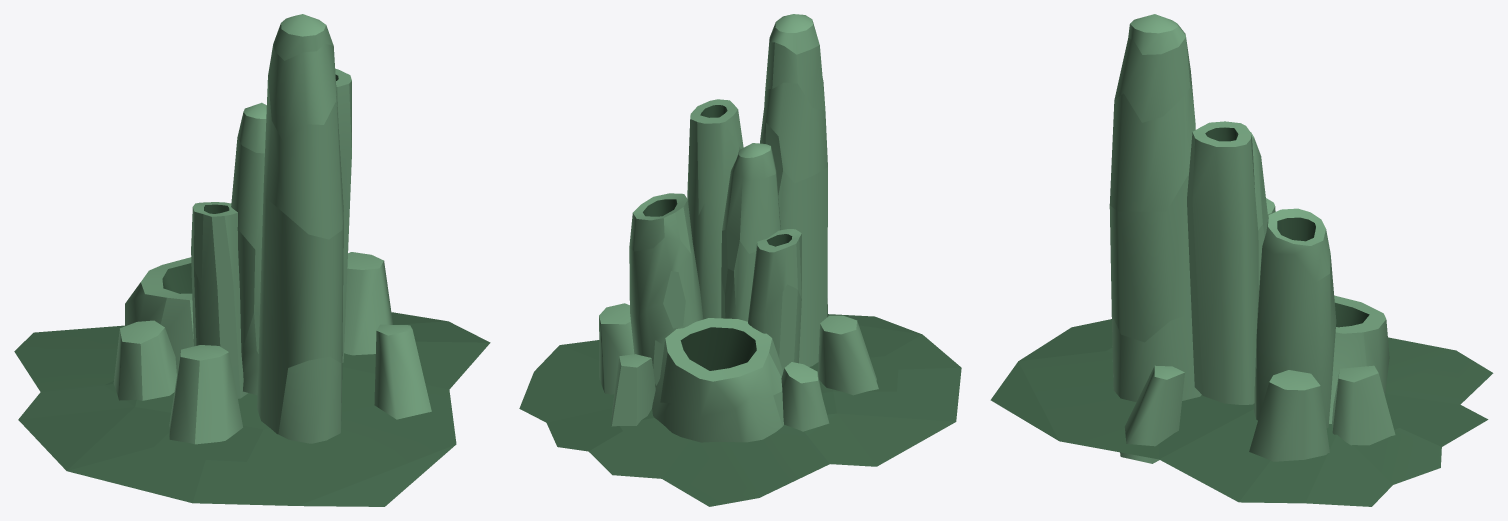
File: coral_tube_set_E_mini.fbx
3 renders of one model, left to right at view 1: azimuth 30°, elevation 25°; view 2: azimuth 150°, elevation 25°; view 3: azimuth 270°, elevation 25°, orthographic. The views are drawn at different scales.
Visible parts, largest first — view 1: coral_tube_set_E_mini_base, coral_tube_set_E_mini_A, coral_tube_set_E_mini_D, coral_tube_set_E_mini_B, coral_tube_set_E_mini_small_D, coral_tube_set_E_mini_small_E, coral_tube_set_E_mini_F, coral_tube_set_E_mini_small_F, coral_tube_set_E_mini_small_B, coral_tube_set_E_mini_C; view 2: coral_tube_set_E_mini_base, coral_tube_set_E_mini_A, coral_tube_set_E_mini_F, coral_tube_set_E_mini_E, coral_tube_set_E_mini_C, coral_tube_set_E_mini_B, coral_tube_set_E_mini_D, coral_tube_set_E_mini_small_D, coral_tube_set_E_mini_small_C, coral_tube_set_E_mini_small_E, coral_tube_set_E_mini_small_B; view 3: coral_tube_set_E_mini_base, coral_tube_set_E_mini_A, coral_tube_set_E_mini_C, coral_tube_set_E_mini_E, coral_tube_set_E_mini_small_B, coral_tube_set_E_mini_small_C, coral_tube_set_E_mini_F, coral_tube_set_E_mini_small_F, coral_tube_set_E_mini_B.
Boxes of the visible parts, <box> form: coral_tube_set_E_mini_base: <box>14,312,490,506</box>; coral_tube_set_E_mini_A: <box>257,14,343,443</box>; coral_tube_set_E_mini_D: <box>191,202,247,398</box>; coral_tube_set_E_mini_B: <box>231,102,266,394</box>; coral_tube_set_E_mini_small_D: <box>169,345,242,444</box>; coral_tube_set_E_mini_small_E: <box>113,320,176,400</box>; coral_tube_set_E_mini_F: <box>125,257,193,374</box>; coral_tube_set_E_mini_small_F: <box>374,324,431,419</box>; coral_tube_set_E_mini_small_B: <box>344,252,392,355</box>; coral_tube_set_E_mini_C: <box>335,68,351,362</box>; coral_tube_set_E_mini_base: <box>519,314,961,506</box>; coral_tube_set_E_mini_A: <box>760,14,827,366</box>; coral_tube_set_E_mini_F: <box>652,318,783,442</box>; coral_tube_set_E_mini_E: <box>629,193,703,387</box>; coral_tube_set_E_mini_C: <box>687,99,743,319</box>; coral_tube_set_E_mini_B: <box>721,143,780,321</box>; coral_tube_set_E_mini_D: <box>748,229,801,370</box>; coral_tube_set_E_mini_small_D: <box>818,315,878,395</box>; coral_tube_set_E_mini_small_C: <box>611,354,655,426</box>; coral_tube_set_E_mini_small_E: <box>781,362,829,431</box>; coral_tube_set_E_mini_small_B: <box>599,303,634,394</box>; coral_tube_set_E_mini_base: <box>990,319,1493,506</box>; coral_tube_set_E_mini_A: <box>1109,14,1201,401</box>; coral_tube_set_E_mini_C: <box>1187,121,1258,404</box>; coral_tube_set_E_mini_E: <box>1254,208,1336,427</box>; coral_tube_set_E_mini_small_B: <box>1249,370,1329,461</box>; coral_tube_set_E_mini_small_C: <box>1332,365,1395,445</box>; coral_tube_set_E_mini_F: <box>1329,295,1389,423</box>; coral_tube_set_E_mini_small_F: <box>1120,365,1184,463</box>; coral_tube_set_E_mini_B: <box>1250,132,1268,289</box>.
Bounding box in the file's own units: 43.89 × 41.8 × 46.5.
